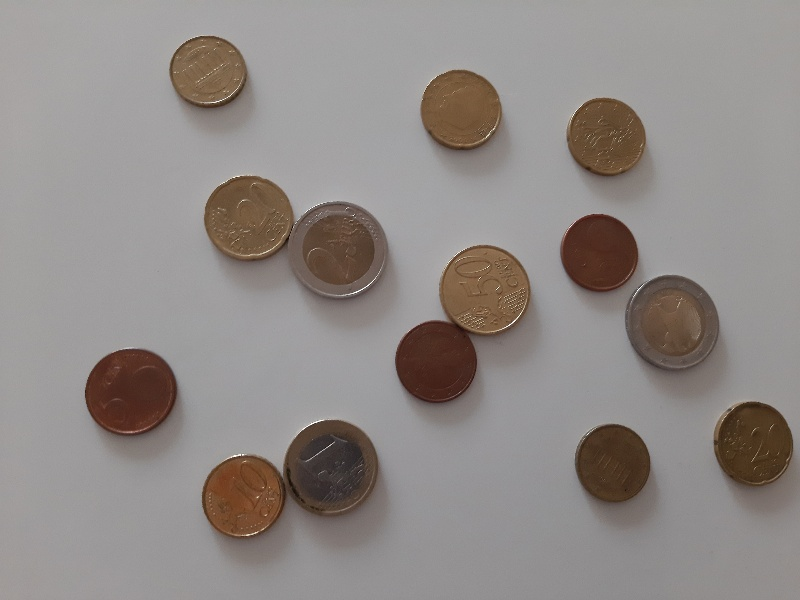1 euro: (282, 416, 380, 517)
10 cent: (199, 448, 285, 541), (573, 422, 653, 508), (166, 36, 250, 111)
2 euro: (286, 197, 398, 301), (623, 272, 725, 374)
20 cent: (202, 171, 295, 260), (711, 396, 796, 489), (419, 68, 504, 154), (564, 97, 649, 177)
5 cent: (83, 346, 179, 437), (393, 319, 480, 404), (559, 212, 641, 291)
50 cent: (440, 243, 537, 336)
